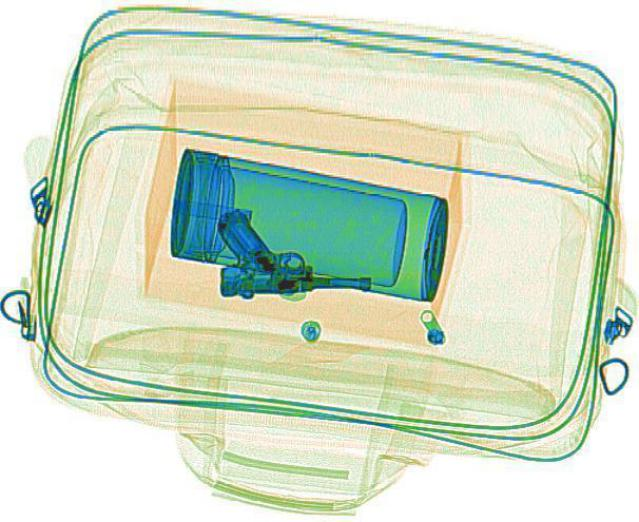Gun: (213, 200, 374, 294)
